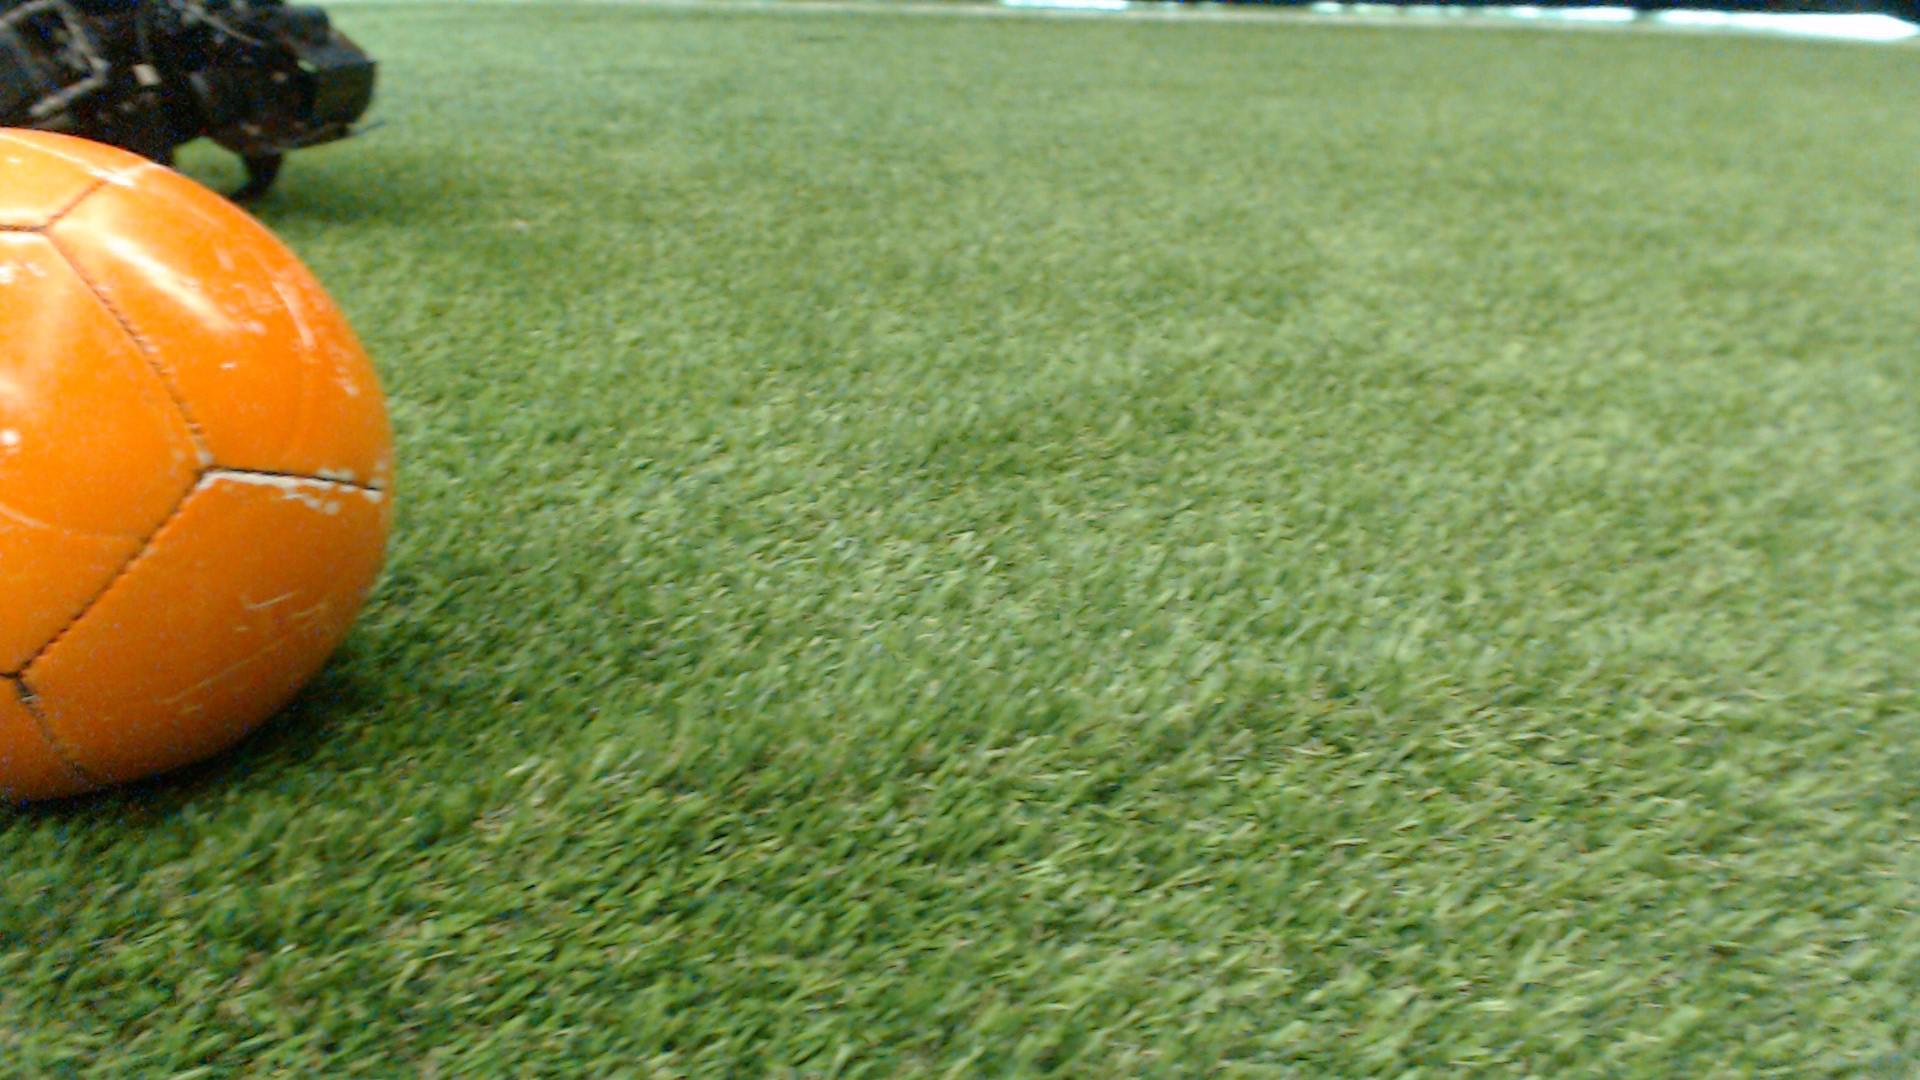bola: (0, 88, 434, 864)
